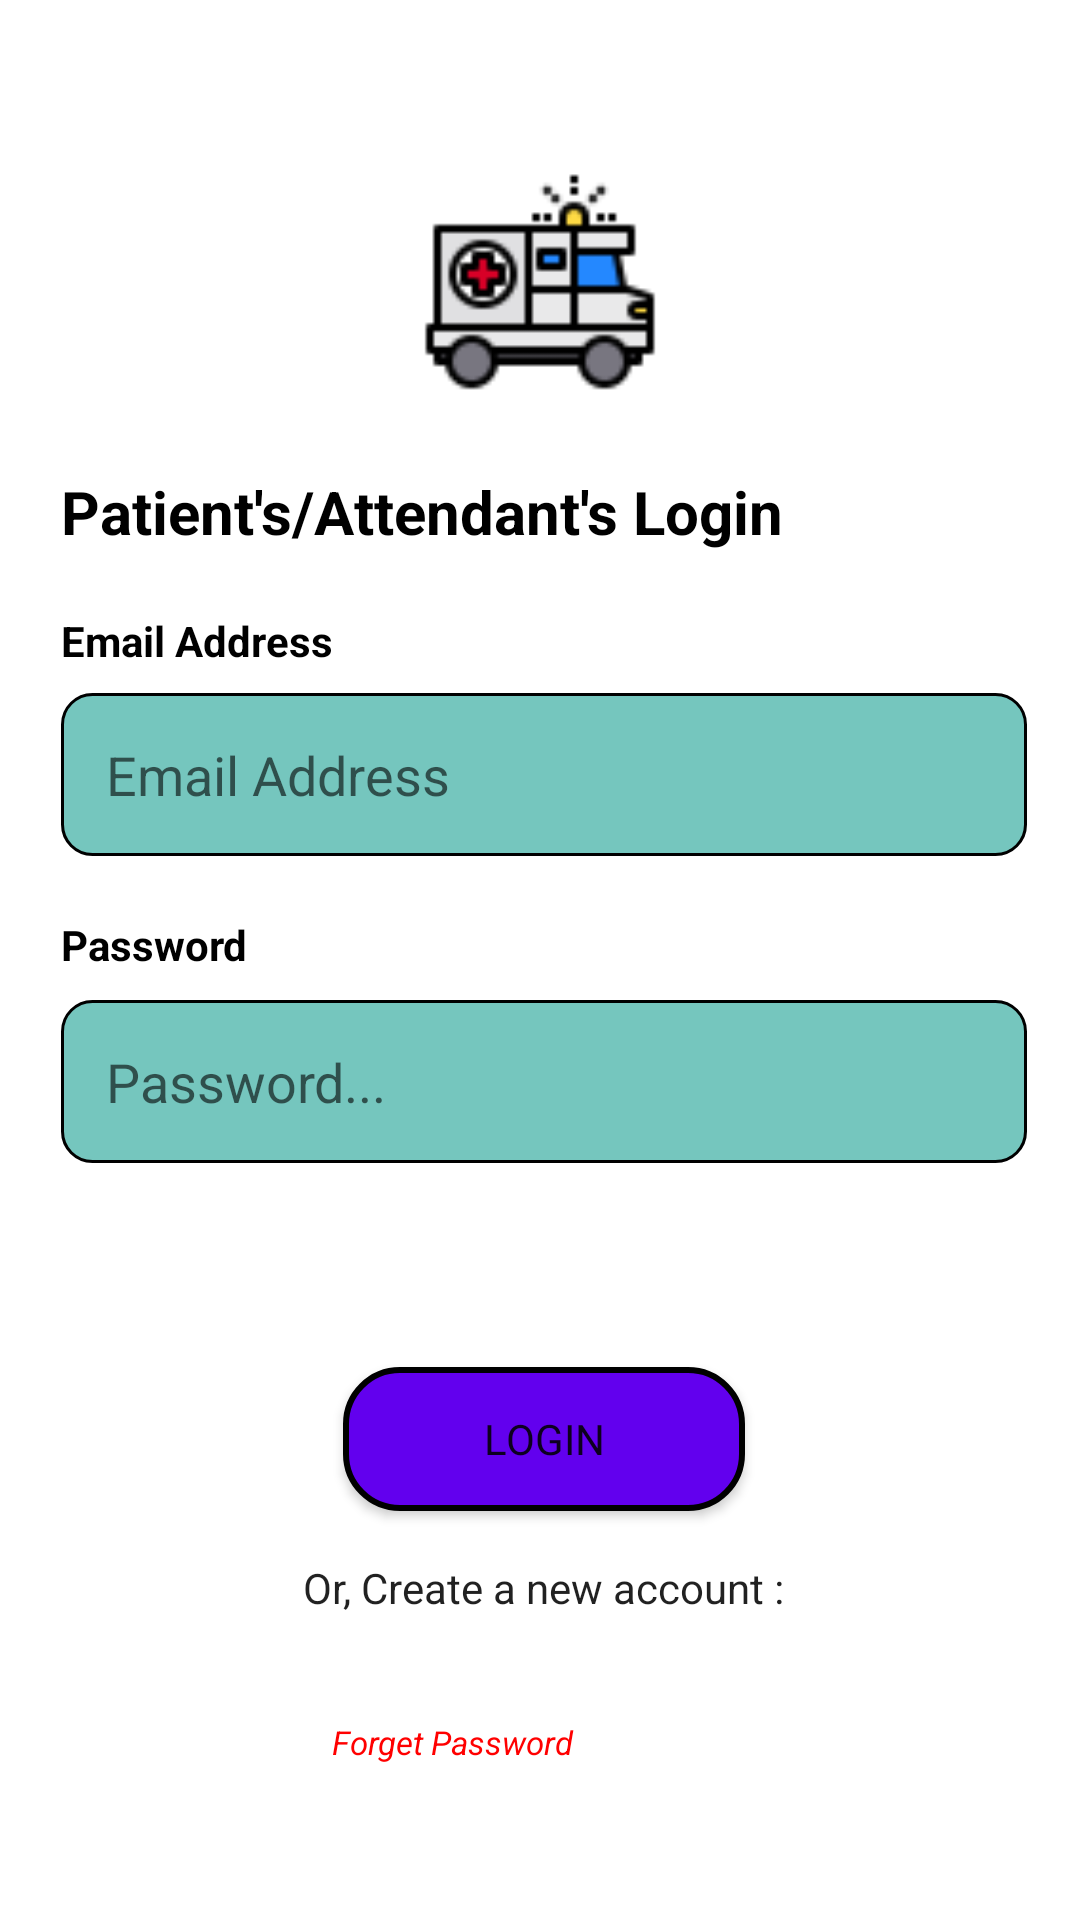

Screen size 1080px×1920px. Icon name, then its box in pixels as {"left": x1, "top": y1, "right": x2, "bottom": y2}:
emergency truck: {"left": 425, "top": 174, "right": 655, "bottom": 390}
